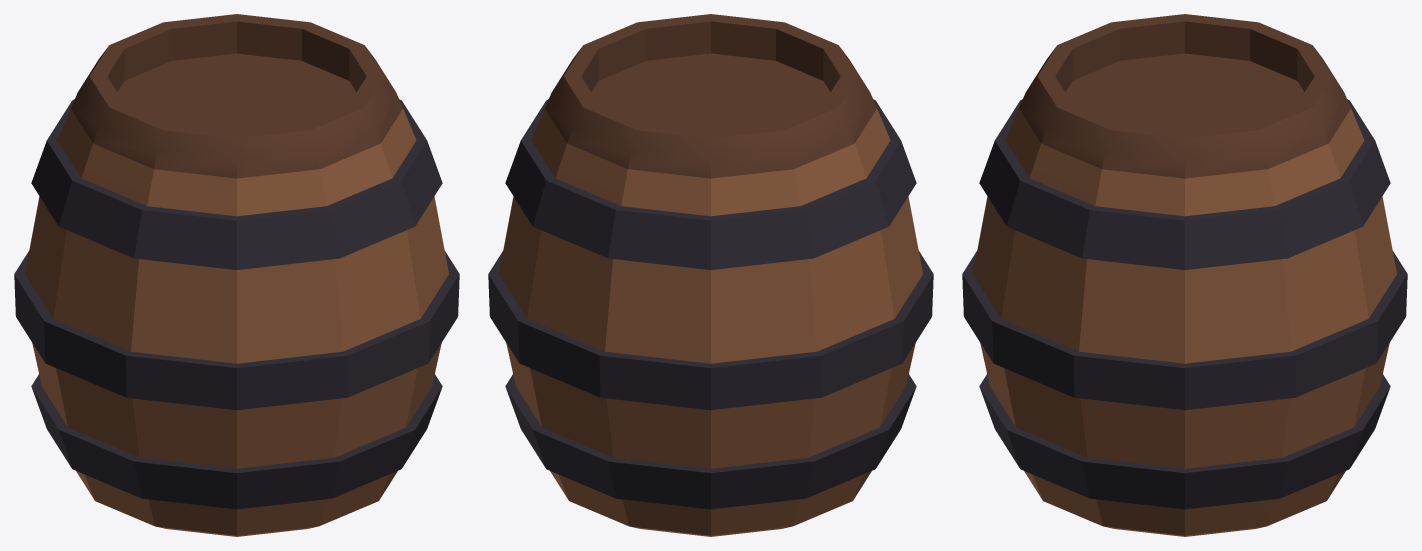
The model's file is barrel.glb.
3 views of the same model, side by side, from view 1: azimuth 30°, elevation 25°; view 2: azimuth 150°, elevation 25°; view 3: azimuth 270°, elevation 25° (orthographic).
Parts seen in each view (by area): view 1: barrel; view 2: barrel; view 3: barrel.
Boxes of the visible parts, left/top/right/bottom form: barrel: left=14, top=14, right=459, bottom=536; barrel: left=488, top=14, right=933, bottom=536; barrel: left=962, top=14, right=1407, bottom=536.
Bounding box in the file's own units: 0.7553 × 0.75 × 0.7553.
